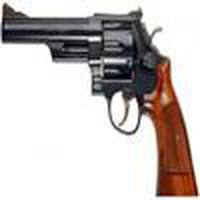gun: (2, 2, 195, 171)
